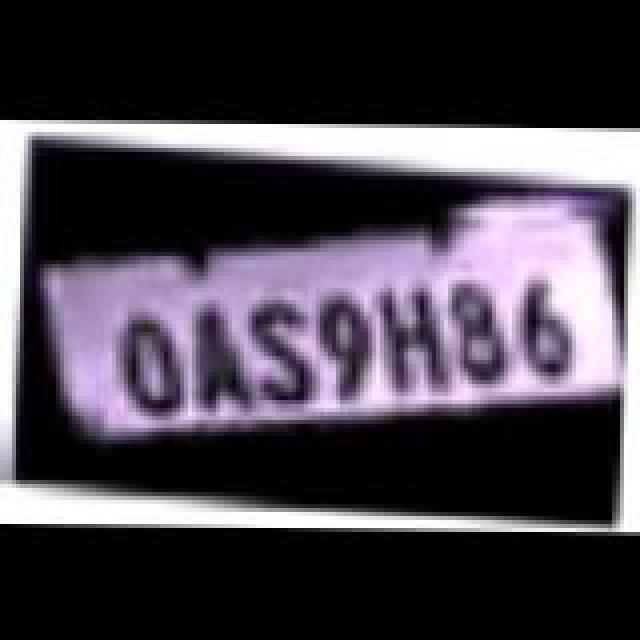6: (434, 274, 526, 386), (504, 264, 592, 380)
9: (304, 288, 392, 400)
A: (180, 298, 268, 410)
H: (368, 272, 464, 392)
O: (104, 302, 200, 414)
S: (242, 292, 334, 404)
